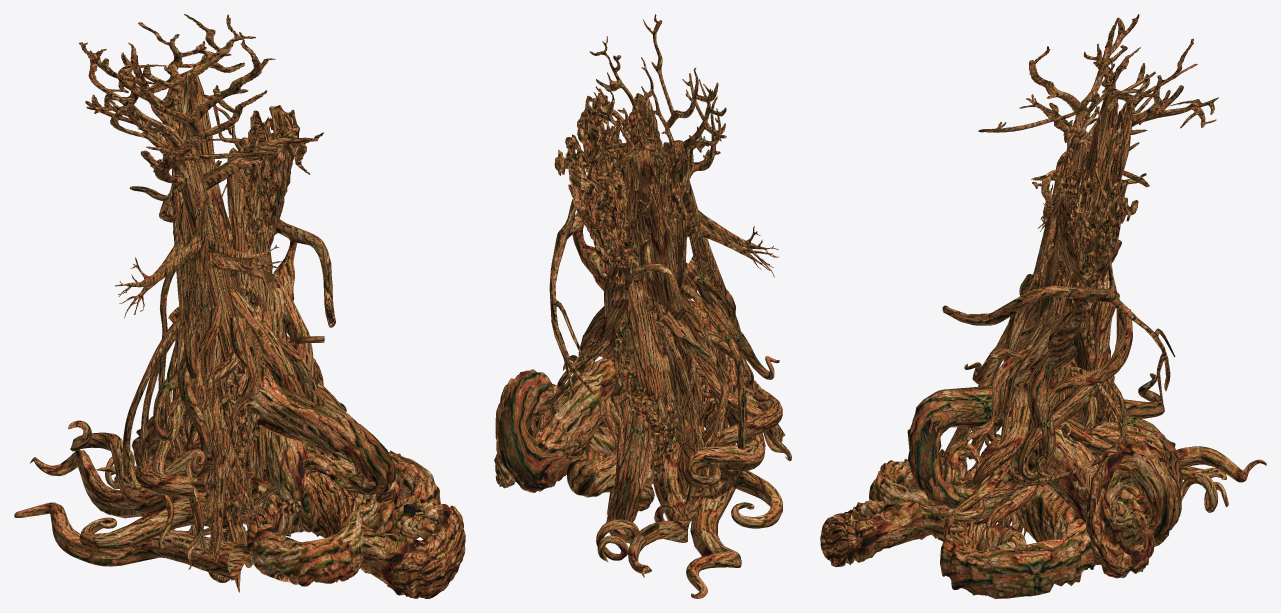
The model's file is worldtreetwotrunk.glb.
3 renders of one model, left to right at view 1: azimuth 30°, elevation 25°; view 2: azimuth 150°, elevation 25°; view 3: azimuth 270°, elevation 25°, orthographic. The views are drawn at different scales.
Parts seen in each view (by area): view 1: plant.002; view 2: plant.002; view 3: plant.002.
Part boxes in pixels (x1=…): plant.002: x1=14, y1=14, x2=465, y2=598; plant.002: x1=494, y1=14, x2=791, y2=598; plant.002: x1=820, y1=14, x2=1266, y2=598.
Size of the model in its own units: 1.01 by 1.66 by 1.29.
2 materials, 2 textured.
